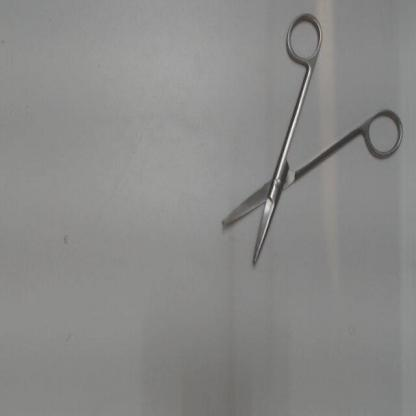Curved Mayo Scissors: (212, 9, 407, 274)
